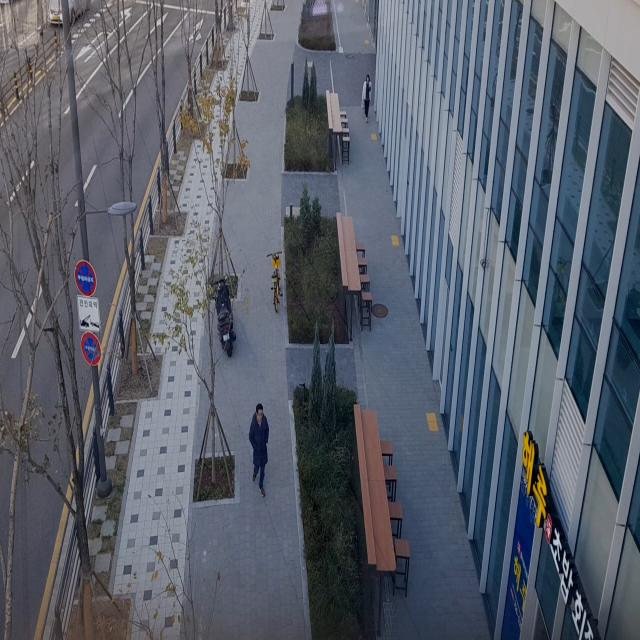Car: (38, 0, 98, 35)
